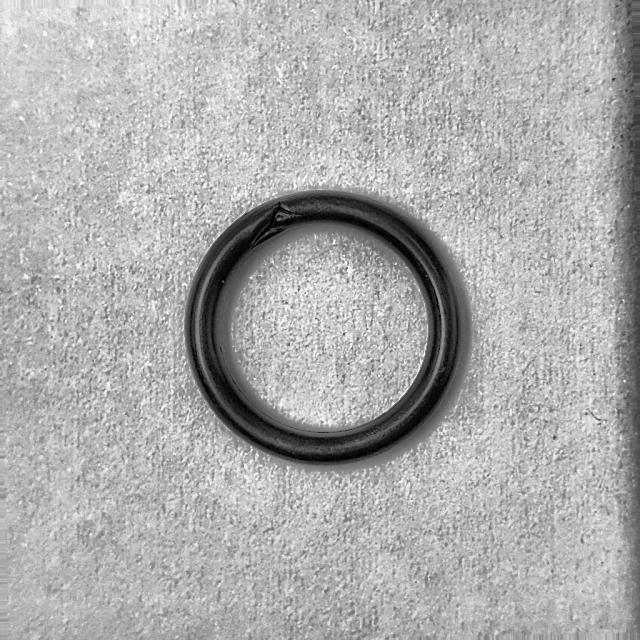切割缺陷: (250, 199, 302, 249)
